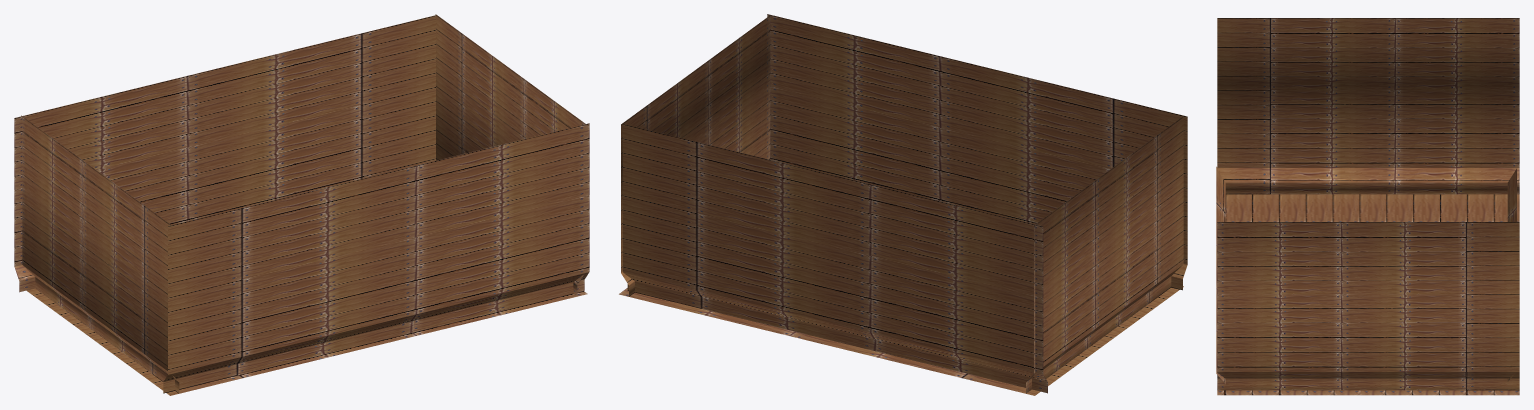
Rendered from BasementWallsAndFloor_New.fbx.
3 renders of one model, left to right at view 1: azimuth 30°, elevation 25°; view 2: azimuth 150°, elevation 25°; view 3: azimuth 270°, elevation 25°, orthographic.
Parts seen in each view (by area): view 1: BasementWalls; view 2: BasementWalls; view 3: BasementWalls.
Part boxes in pixels (x1,y1,x2,y2): BasementWalls: [14, 14, 589, 395]; BasementWalls: [619, 14, 1187, 395]; BasementWalls: [1216, 18, 1519, 395].
Size of the model in its own units: 1317 by 505 by 805.
